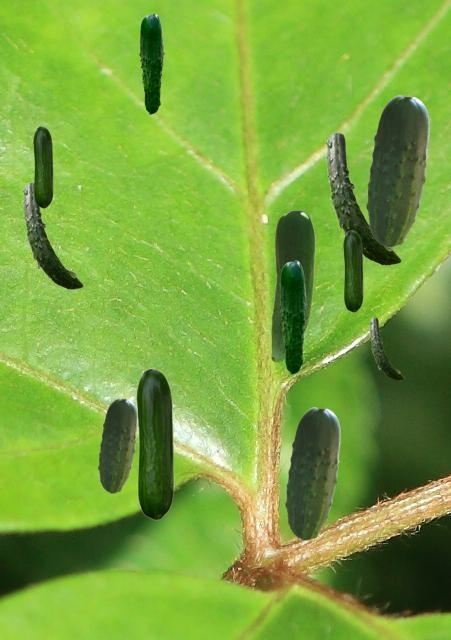cucumber: (325, 132, 400, 264), (366, 95, 428, 246), (285, 407, 339, 539), (271, 210, 314, 361), (22, 182, 82, 288), (136, 368, 173, 519), (98, 398, 136, 492), (279, 260, 306, 373), (139, 13, 163, 113), (369, 317, 403, 379), (33, 126, 52, 207), (343, 230, 362, 311)
